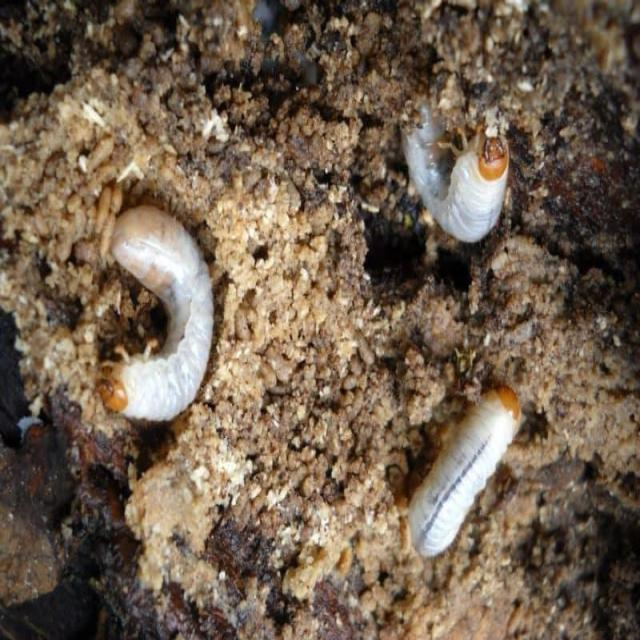grub: (84, 196, 225, 435), (400, 375, 528, 573), (394, 84, 507, 249)
